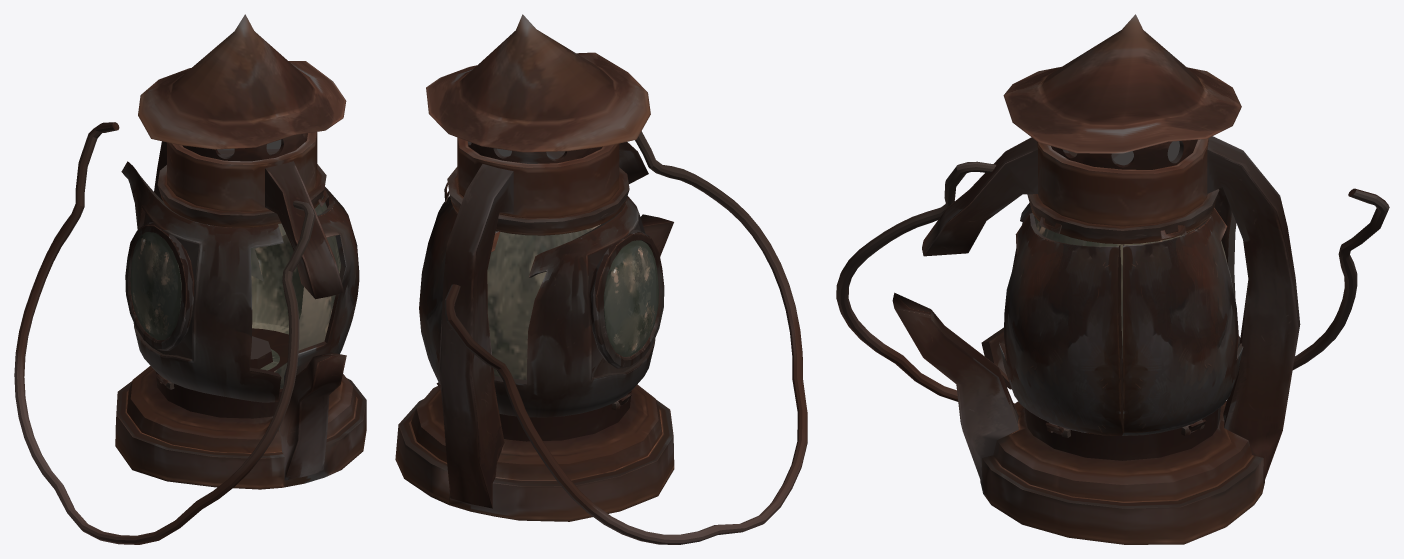
File: Lantern_broken01.fbx
3 views of the same model, side by side, from view 1: azimuth 30°, elevation 25°; view 2: azimuth 150°, elevation 25°; view 3: azimuth 270°, elevation 25° (orthographic). The views are drawn at different scales.
Visible parts, largest first — view 1: Lantern_broken01; view 2: Lantern_broken01; view 3: Lantern_broken01.
Boxes of the visible parts, left/top/right/bottom form: Lantern_broken01: left=14, top=14, right=366, bottom=544; Lantern_broken01: left=395, top=14, right=807, bottom=544; Lantern_broken01: left=836, top=14, right=1389, bottom=544.
Bounding box in the file's own units: 0.2056 × 0.2977 × 0.2932.
Materials: 2 (2 with a texture image).
